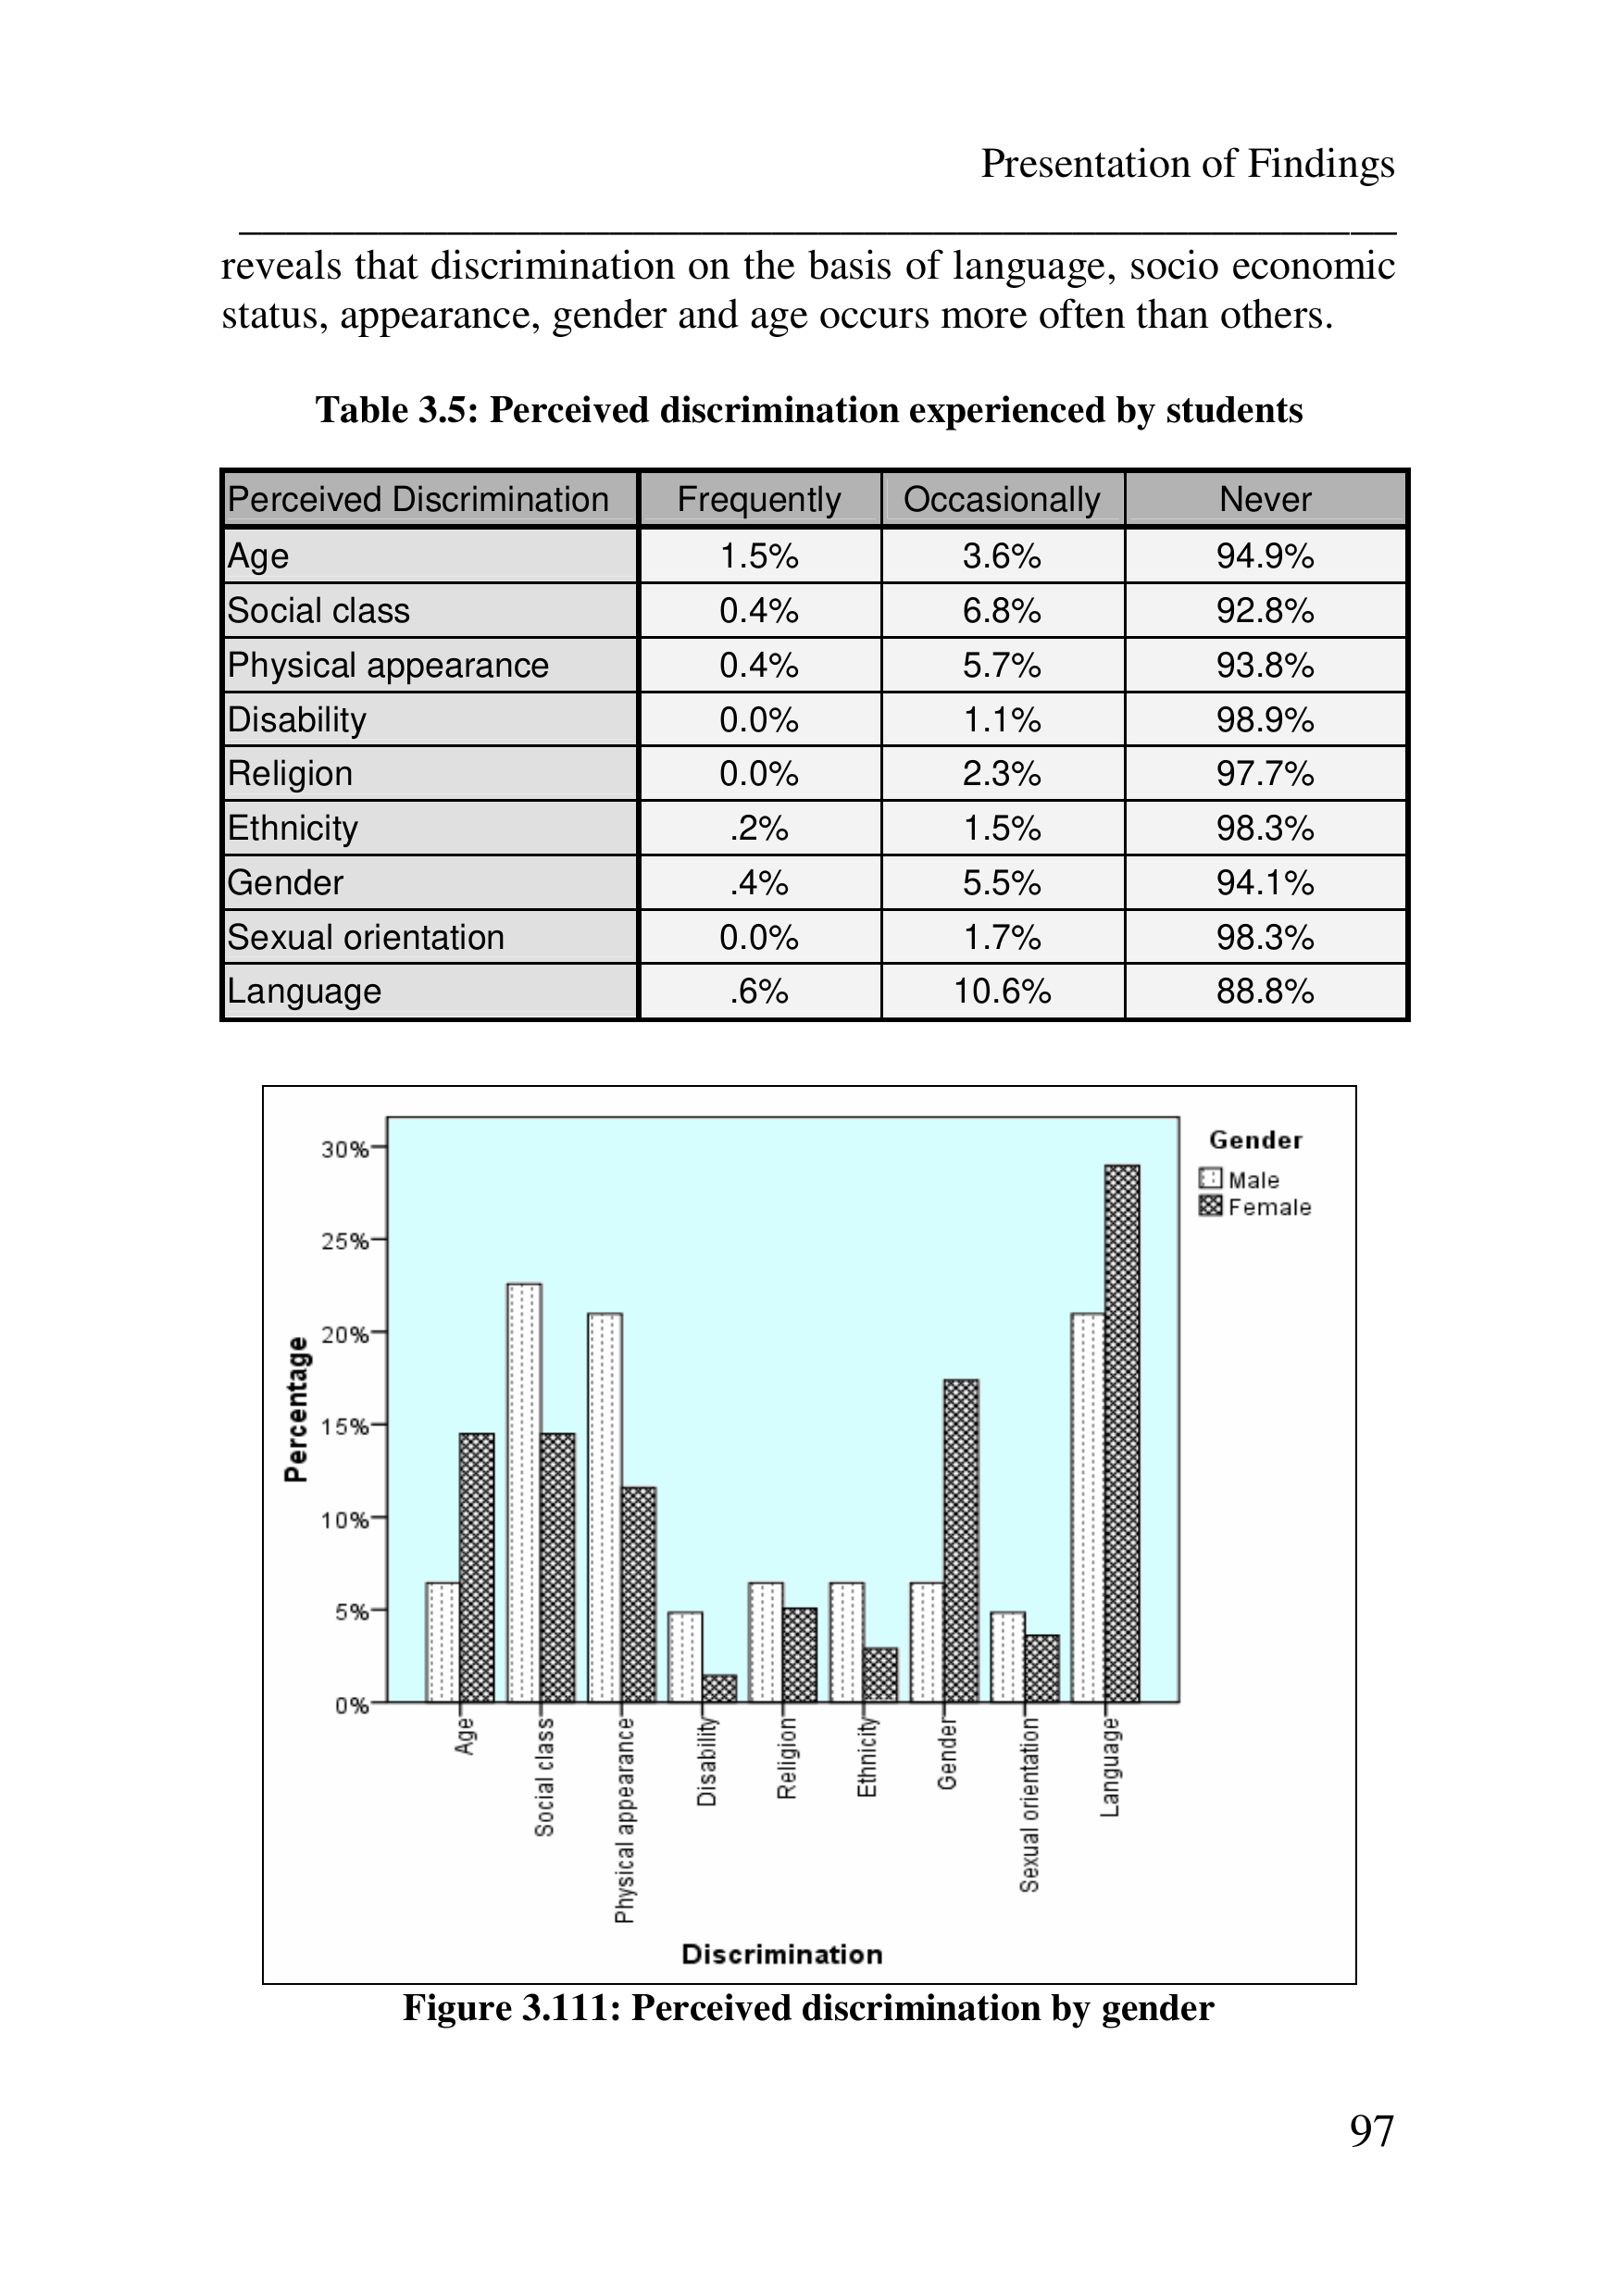table: (219, 467, 1409, 1023)
